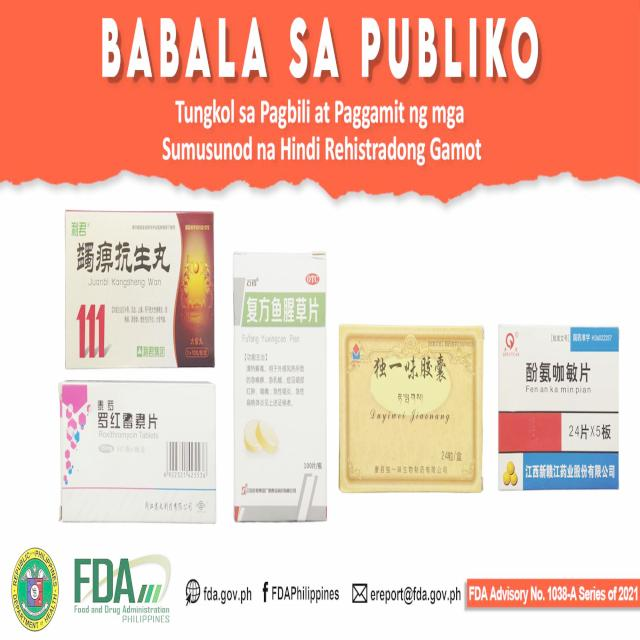counterfeit: (230, 247, 327, 526), (337, 319, 482, 497), (62, 201, 213, 369), (58, 378, 216, 524), (496, 317, 621, 491)
